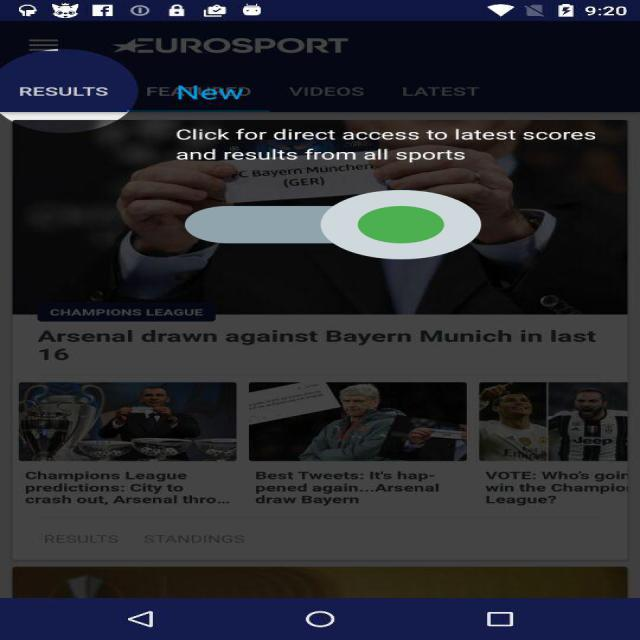social proof: (185, 160, 481, 288)
